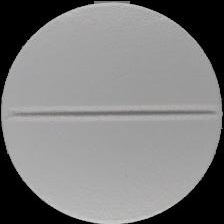63629-5341: (0, 0, 224, 224)
